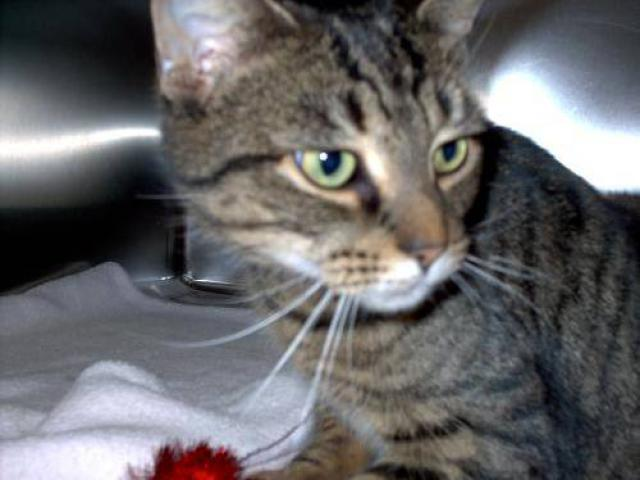cat: (81, 1, 637, 480)
